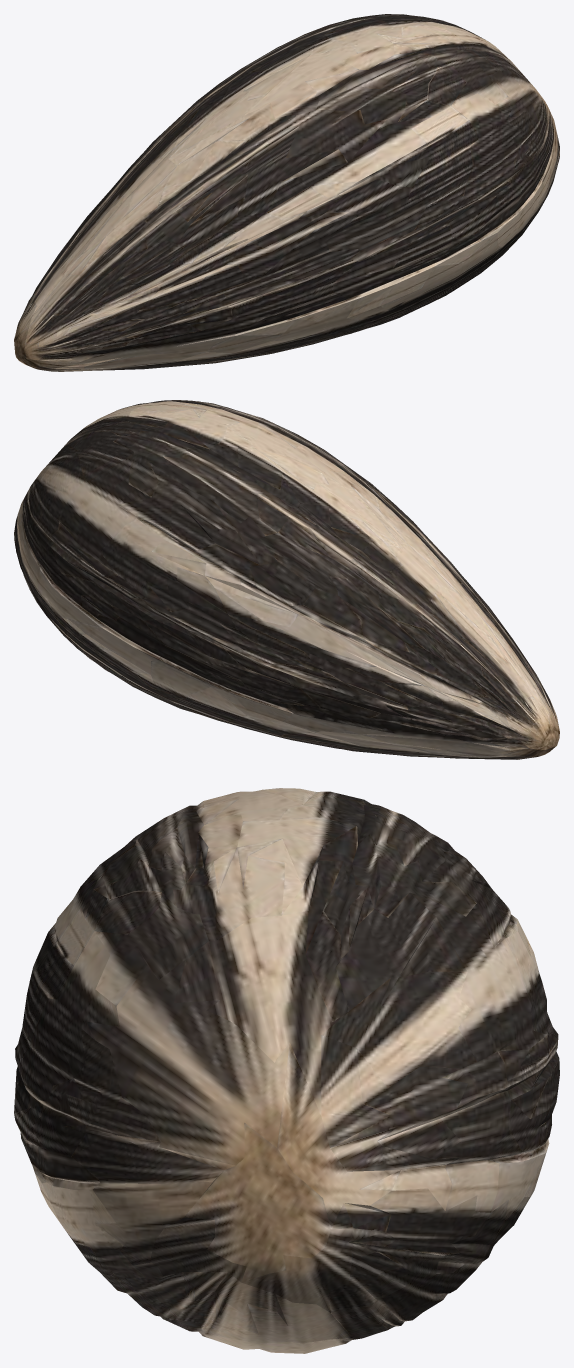
The model's file is seed.glb.
The picture shows the model from 3 angles, top to bottom: view 1: azimuth 30°, elevation 25°; view 2: azimuth 150°, elevation 25°; view 3: azimuth 270°, elevation 25°; orthographic projection. The views are drawn at different scales.
Visible parts, largest first — view 1: output_unwrapped; view 2: output_unwrapped; view 3: output_unwrapped.
Boxes of the visible parts, <box> form: output_unwrapped: <box>14,14,559,371</box>; output_unwrapped: <box>14,400,559,759</box>; output_unwrapped: <box>14,788,559,1353</box>.
Size of the model in its own units: 1.9 by 0.9524 by 0.9319.
1 material, 1 textured.
